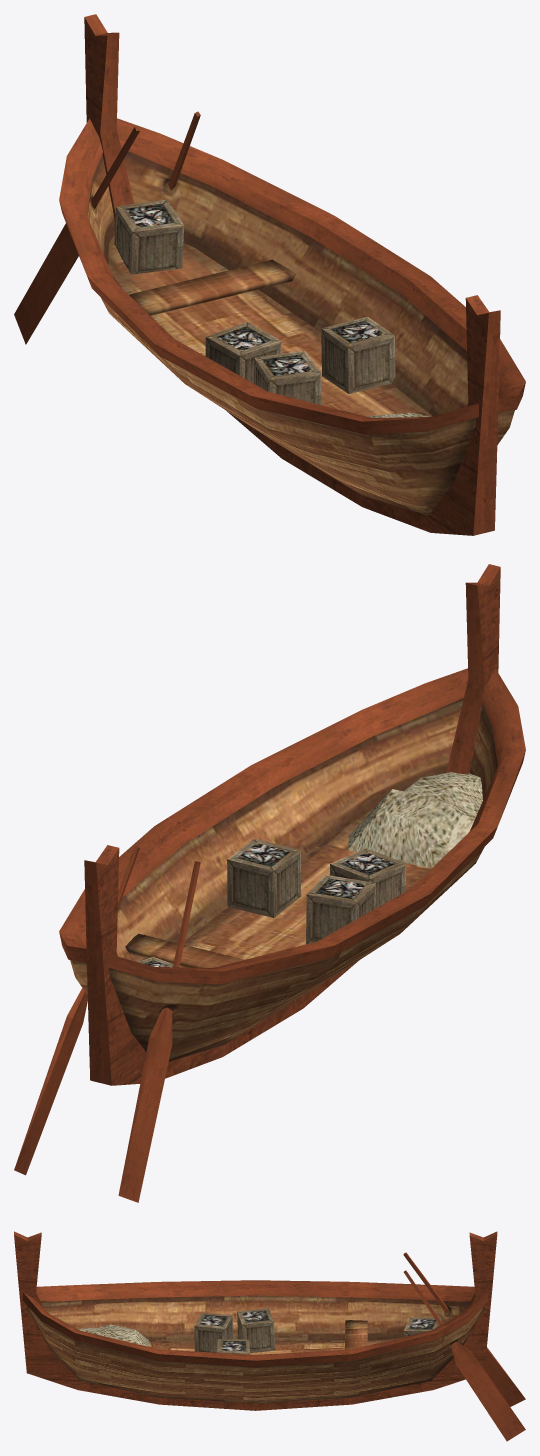
File: pers_fishship.glb
3 renders of one model, top to bottom at view 1: azimuth 30°, elevation 25°; view 2: azimuth 150°, elevation 25°; view 3: azimuth 270°, elevation 25°, orthographic. The views are drawn at different scales.
Size of the model in its own units: 4.47 by 4.97 by 12.
Materials: 1 (1 with a texture image).
